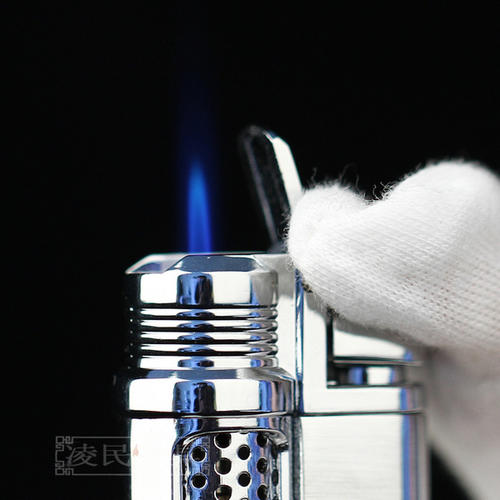fire: (158, 161, 244, 271)
